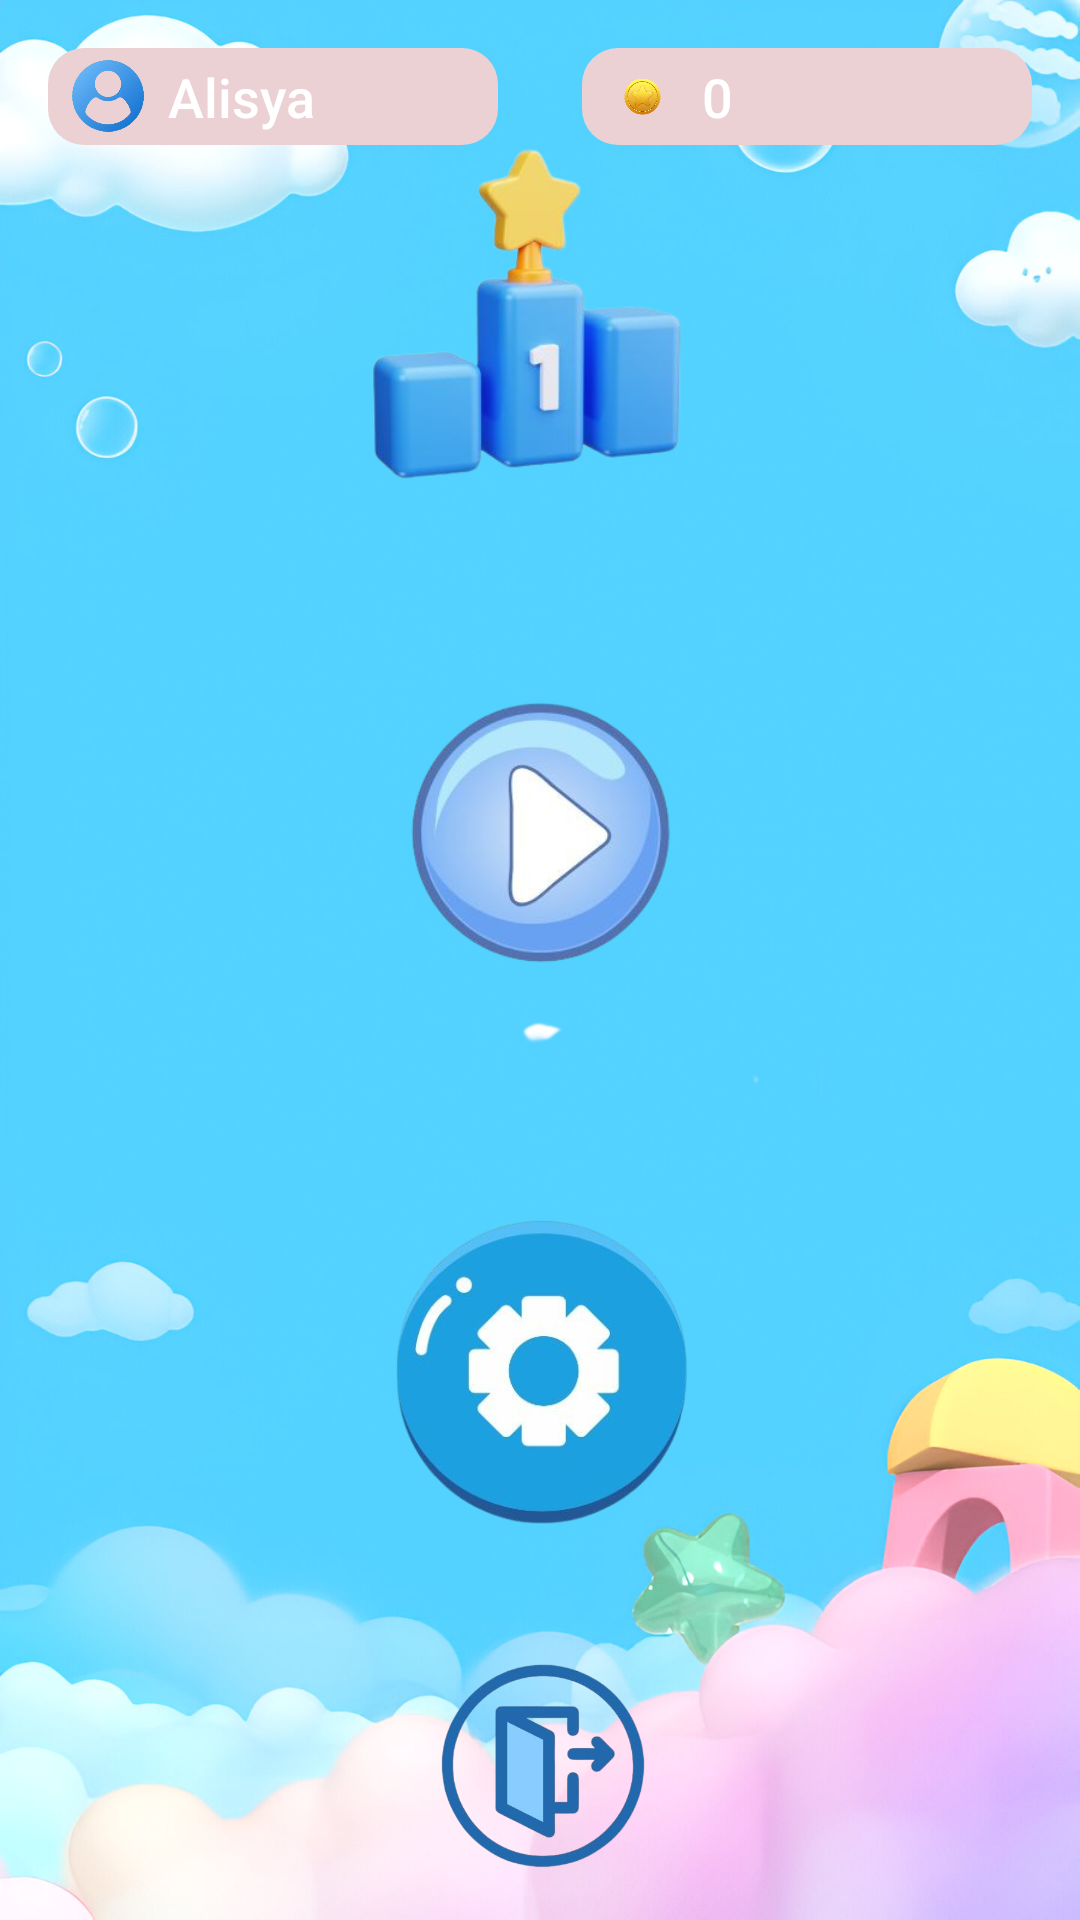

Point at icon controls on the screen. Image size 1080x1920, points as (x,y).
out: (540,1760)
set: (542,1372)
user: (108,96)
